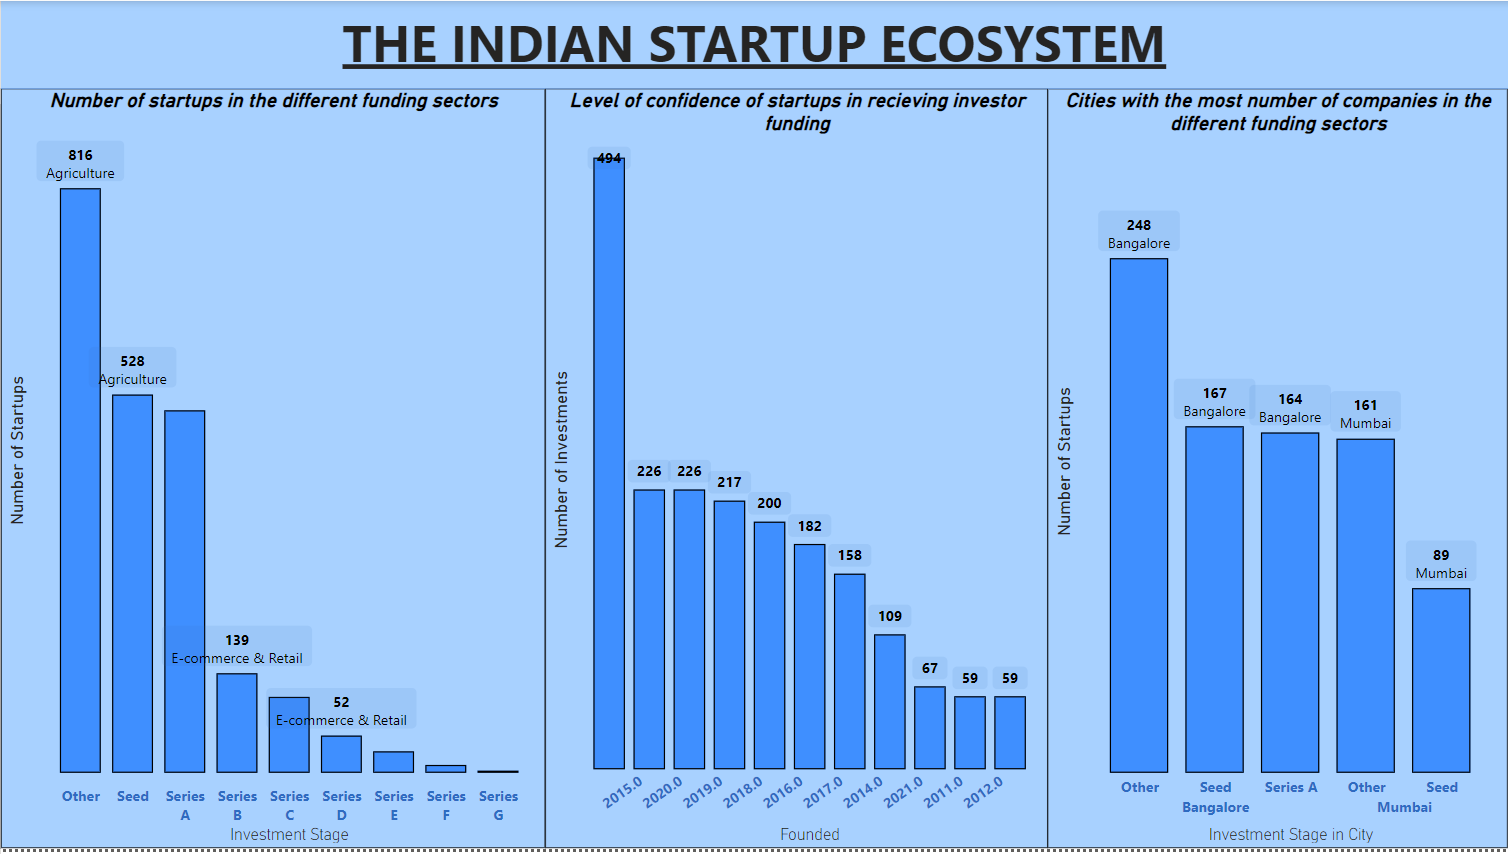

What the dashboard file says about the page in this screenshot:
{"tool":"powerbi","page":{"name":"Page 2","canvas":[1280,720],"ordinal":1},"visuals":[{"type":"columnChart","title":"Number of startups in the different funding sectors","fields":{"Category":["combined123.Categorised_stage"],"Y":["CountNonNull(combined123.Category)"]},"box":[0,74.3,382,645.1],"z":0},{"type":"columnChart","title":"Cities with the most number of companies in the different funding sectors","fields":{"Category":["combined123.Headquarter_City","combined123.Categorised_stage"],"Y":["CountNonNull(combined123.Categorised_stage)"]},"box":[957.2,74.3,322.5,645.1],"z":1000},{"type":"columnChart","title":"Level of confidence of startups in receiving investor funding","fields":{"Category":["combined123.Founded"],"Y":["CountNonNull(combined123.Investment_year)"]},"box":[382,74.3,575.2,645.1],"z":2000},{"type":"shape","box":[0,0,1279.8,74.3],"z":3000},{"type":"textbox","box":[0,0,1279.8,74.3],"z":4000}]}

Visuals, with their boxes in screenshot pixels (x1, y1, x2, y2), scaled from the page's 1280x720 canvas onto the 1508x854 screenshot:
"Number of startups in the different funding sectors" columnChart: bbox(0, 88, 450, 853)
"Cities with the most number of companies in the different funding sectors" columnChart: bbox(1128, 88, 1507, 853)
"Level of confidence of startups in receiving investor funding" columnChart: bbox(450, 88, 1128, 853)
shape: bbox(0, 0, 1507, 88)
textbox: bbox(0, 0, 1507, 88)
